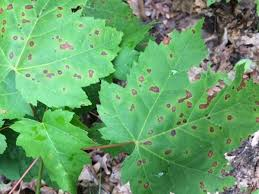Diseased_Leaves: (1, 14, 37, 49), (196, 143, 226, 183), (38, 65, 94, 81), (133, 157, 154, 194), (60, 43, 75, 51), (150, 85, 159, 91), (170, 130, 176, 135), (43, 69, 48, 73), (9, 53, 13, 57), (199, 105, 206, 107)
